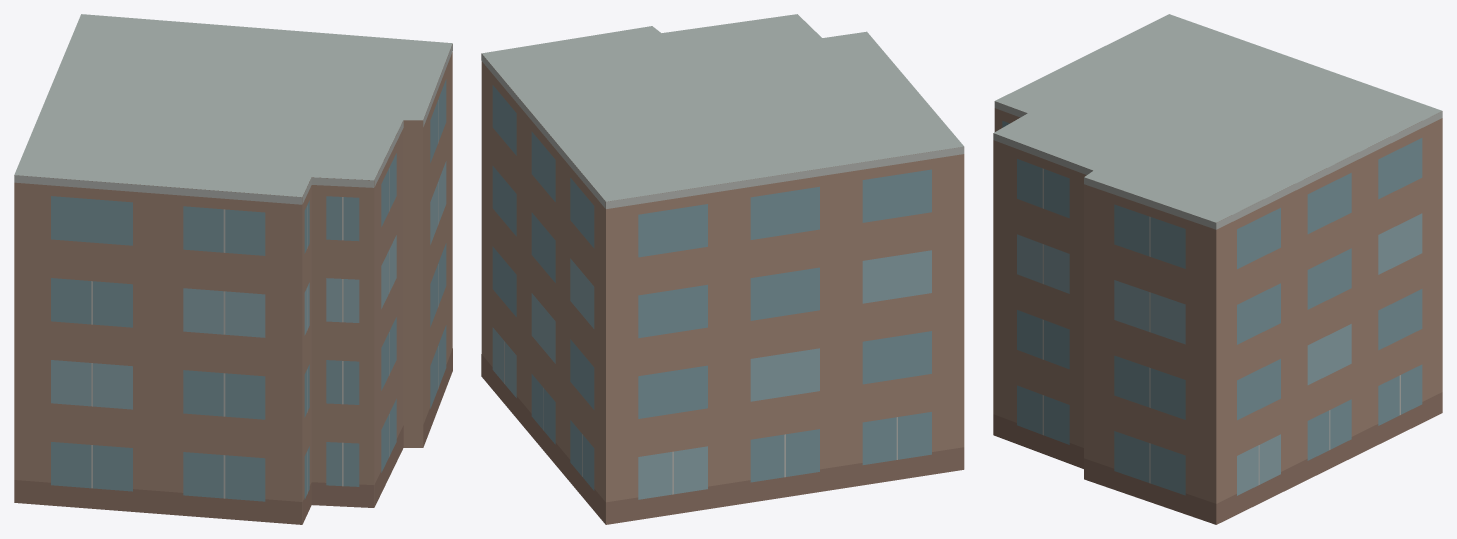
The model's file is survey-upis-32777513.glb.
The picture shows the model from 3 angles, left to right: view 1: azimuth 30°, elevation 25°; view 2: azimuth 150°, elevation 25°; view 3: azimuth 270°, elevation 25°; orthographic projection. The views are drawn at different scales.
Visible parts, largest first — view 1: survey-upis-32777513.tmp; view 2: survey-upis-32777513.tmp; view 3: survey-upis-32777513.tmp.
Boxes of the visible parts, left/top/right/bottom form: survey-upis-32777513.tmp: left=14, top=14, right=452, bottom=524; survey-upis-32777513.tmp: left=481, top=14, right=964, bottom=524; survey-upis-32777513.tmp: left=993, top=14, right=1442, bottom=524.
Size of the model in its own units: 15.64 by 10.55 by 14.22.
